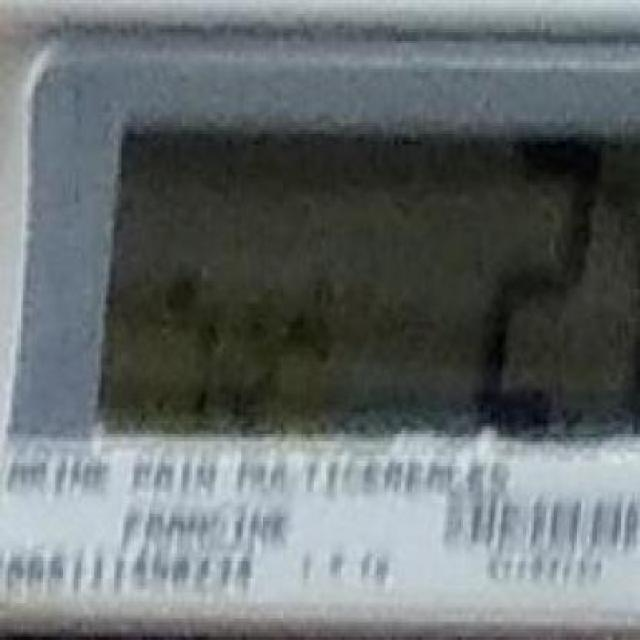display: (97, 123, 640, 437)
frame: (450, 136, 622, 432)
gauge: (0, 0, 640, 640)
